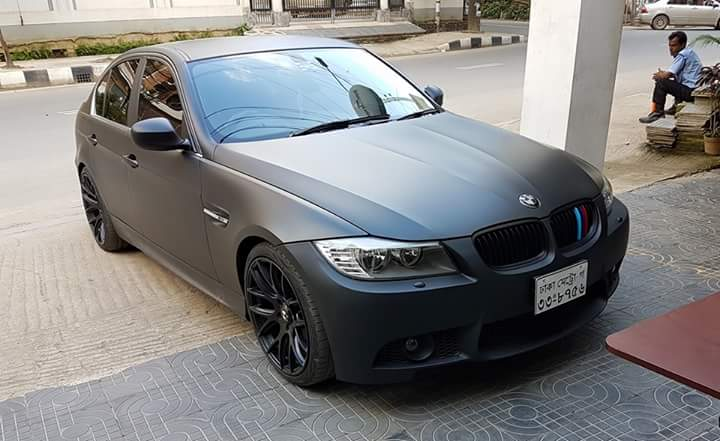registration_plate: (535, 259, 588, 315)
